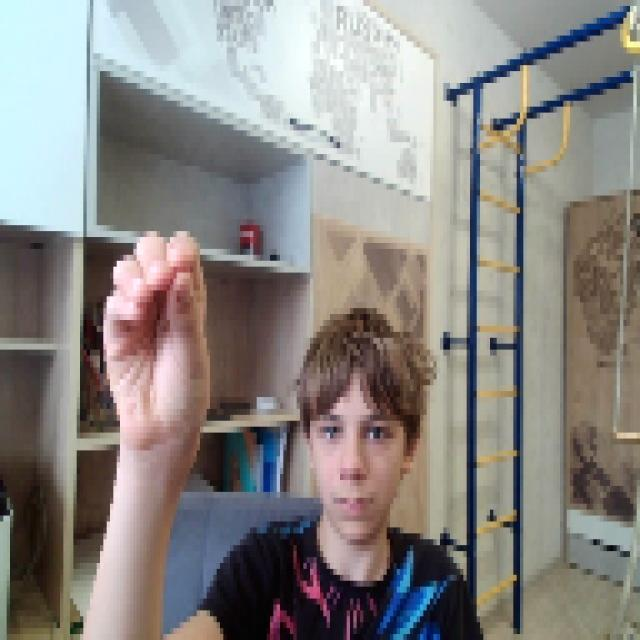left_click: (100, 219, 207, 439)
